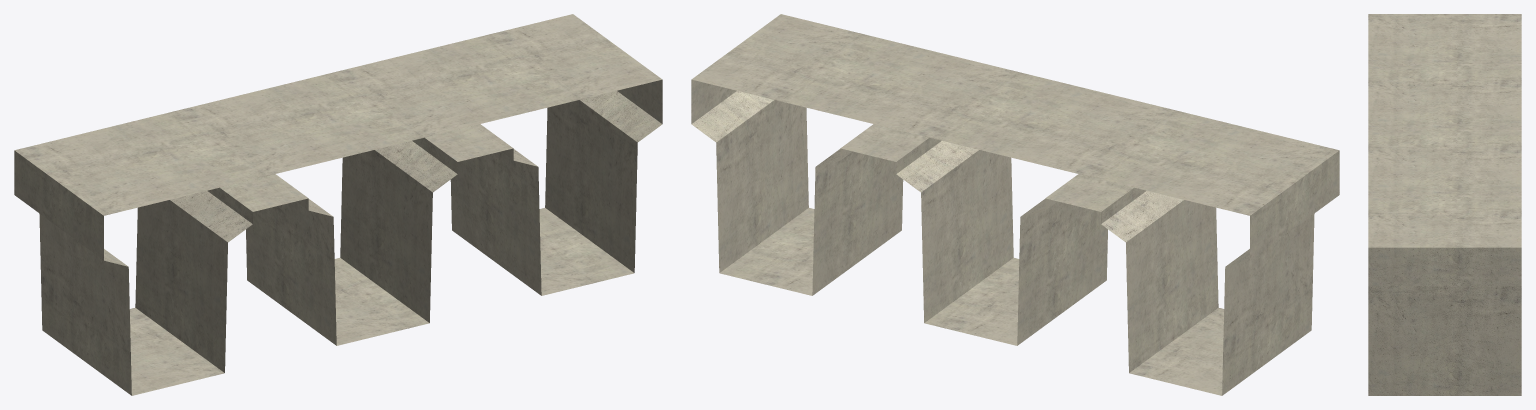
The model's file is BridgeBase4-18w-5l-5d.FBX.
3 renders of one model, left to right at view 1: azimuth 30°, elevation 25°; view 2: azimuth 150°, elevation 25°; view 3: azimuth 270°, elevation 25°, orthographic. The views are drawn at different scales.
Visible parts, largest first — view 1: BridgeBase4-18w-5l-5d; view 2: BridgeBase4-18w-5l-5d; view 3: BridgeBase4-18w-5l-5d.
Part boxes in pixels (<box>): BridgeBase4-18w-5l-5d: <box>14,14,662,395</box>; BridgeBase4-18w-5l-5d: <box>691,14,1339,395</box>; BridgeBase4-18w-5l-5d: <box>1368,14,1521,395</box>.
Bounding box in the file's own units: 18 × 5.75 × 5.
